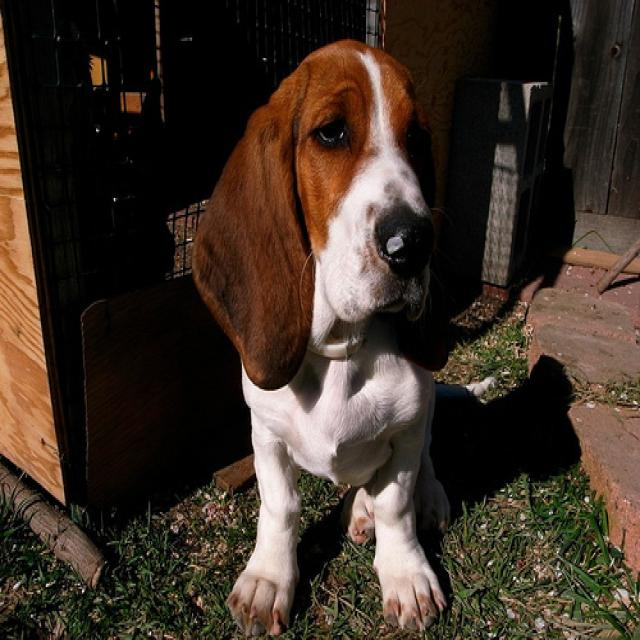dog-basset_hound: (178, 29, 500, 637)
